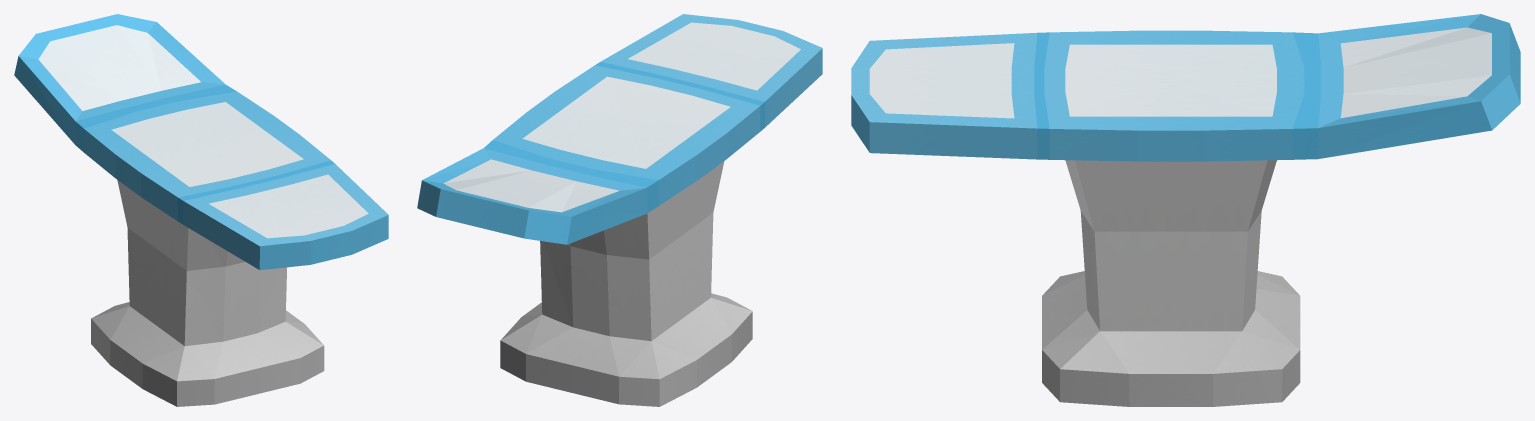
The model's file is bed_3_mri.fbx.
3 renders of one model, left to right at view 1: azimuth 30°, elevation 25°; view 2: azimuth 150°, elevation 25°; view 3: azimuth 270°, elevation 25°, orthographic. The views are drawn at different scales.
Parts seen in each view (by area): view 1: bed_3_mri; view 2: bed_3_mri; view 3: bed_3_mri.
Part boxes in pixels (box(x1,y1,x2,y2)): bed_3_mri: box(14, 14, 388, 406); bed_3_mri: box(417, 14, 822, 406); bed_3_mri: box(851, 14, 1520, 406).
Size of the model in its own units: 0.5363 by 0.7518 by 1.48.
